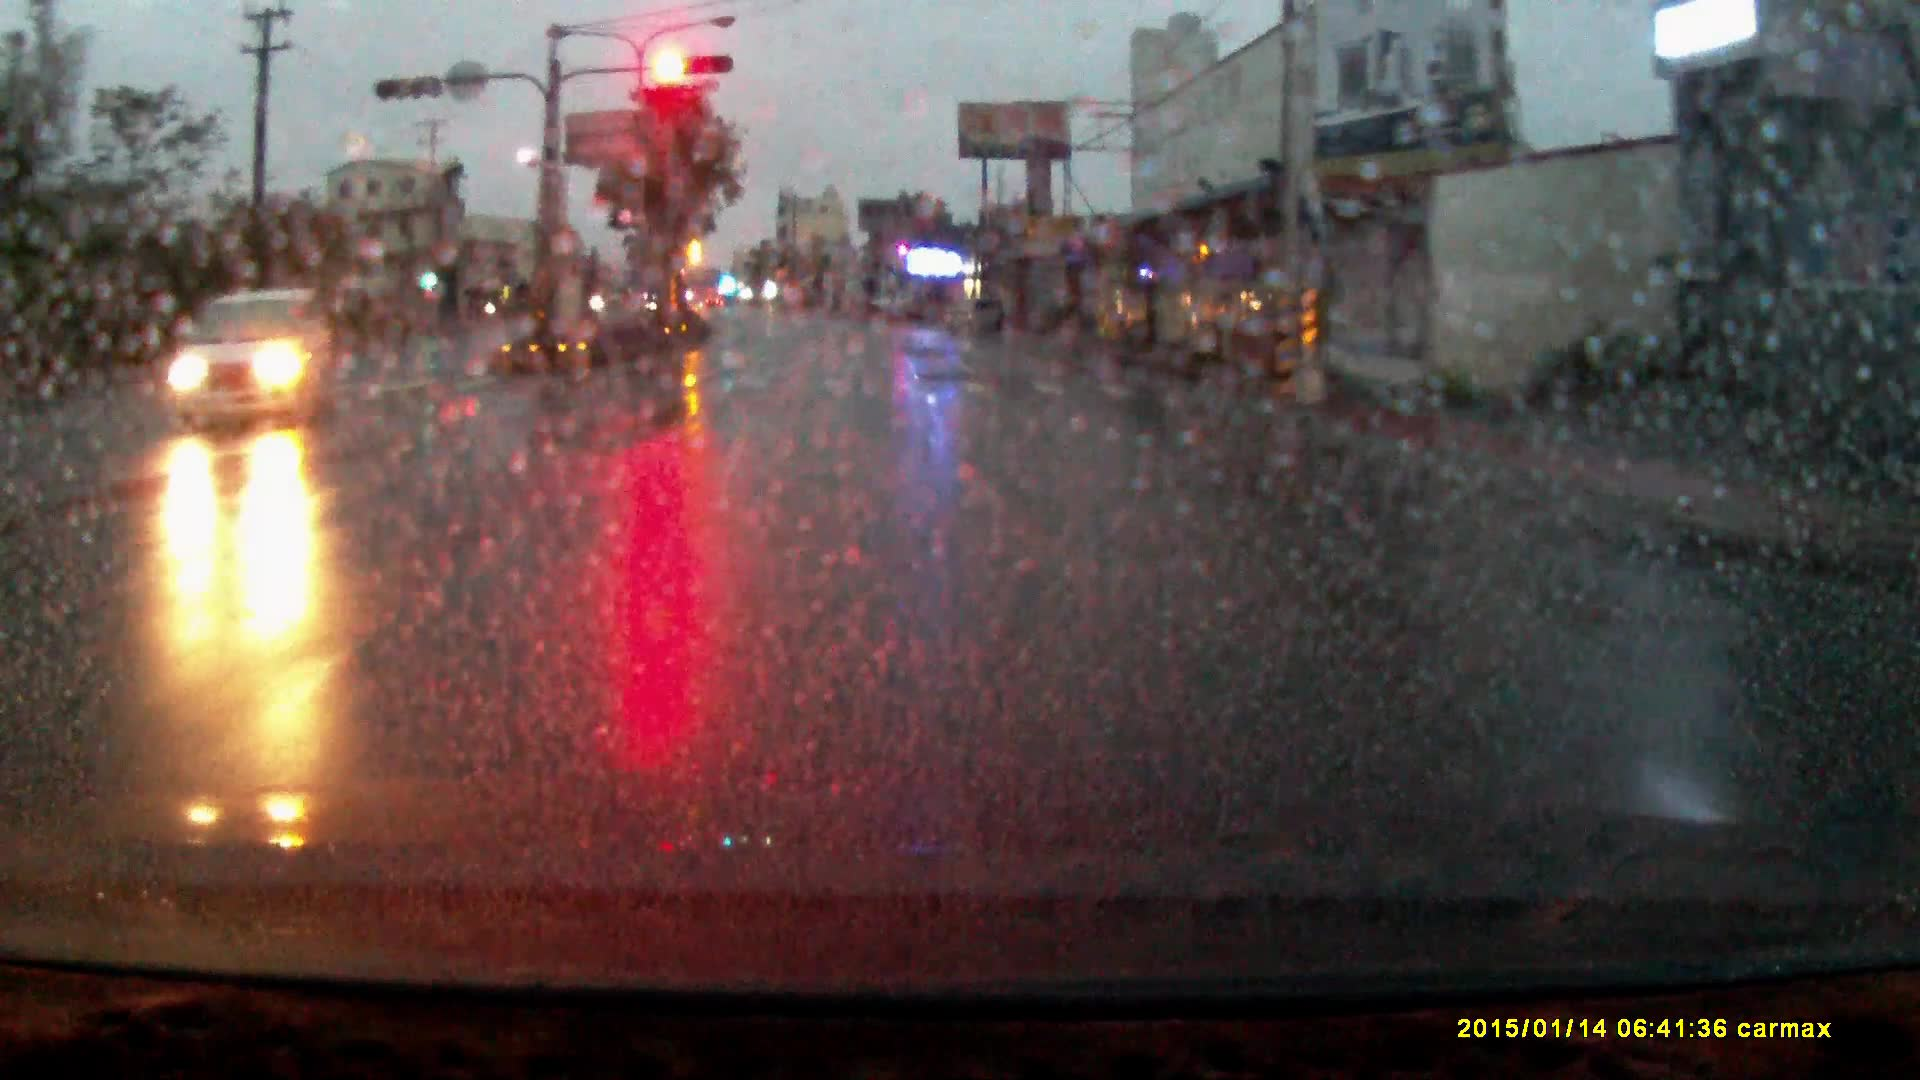vehicle: (156, 285, 331, 431)
